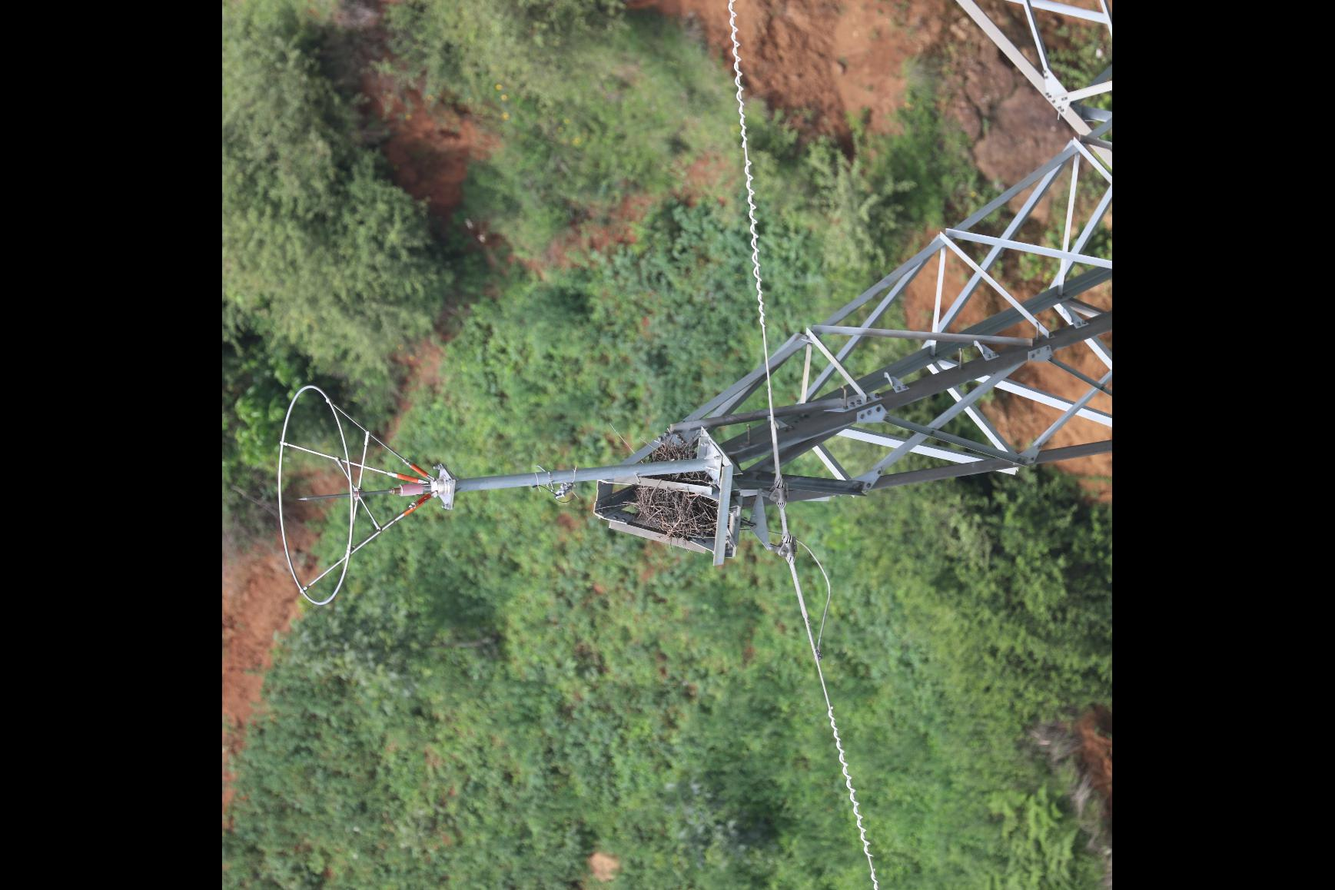nest: (632, 440, 717, 545)
